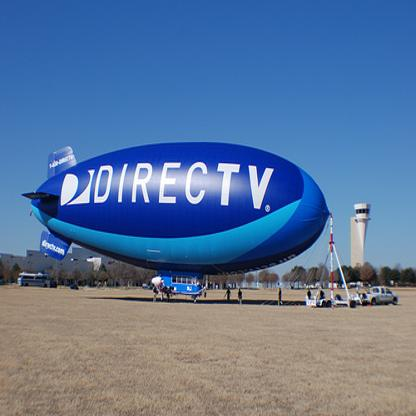Airship: (27, 143, 337, 292)
